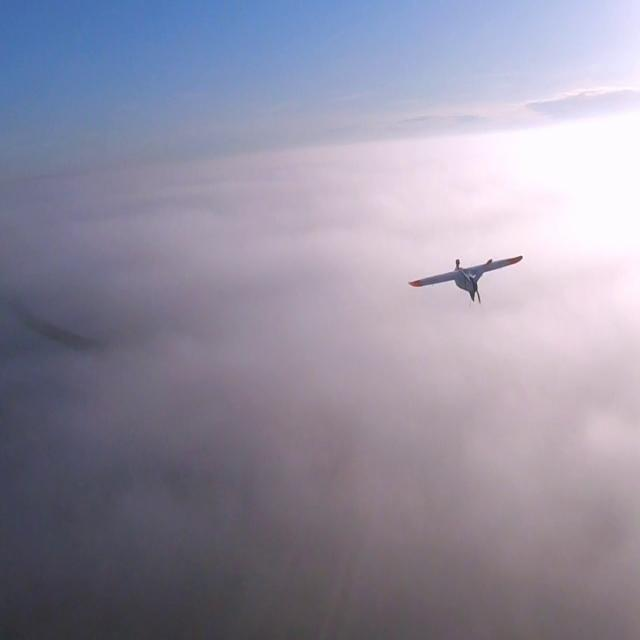iha: (436, 252, 494, 308)
